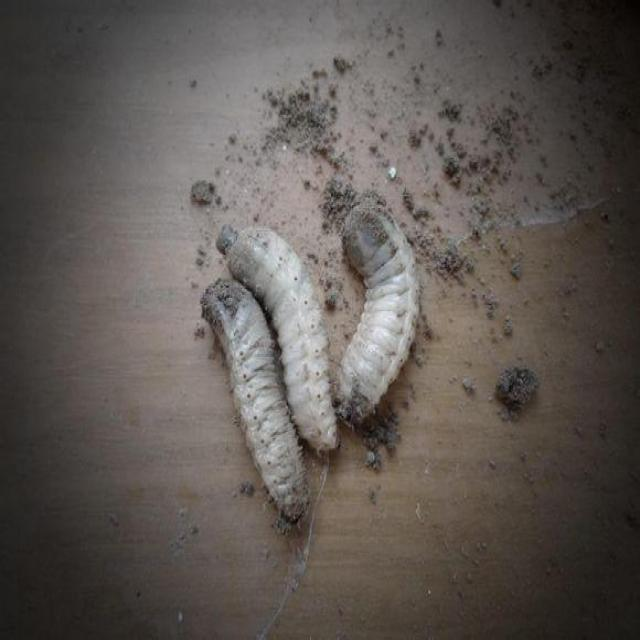Grub-Adult-: (219, 218, 346, 454), (198, 278, 311, 533), (334, 186, 422, 439)
